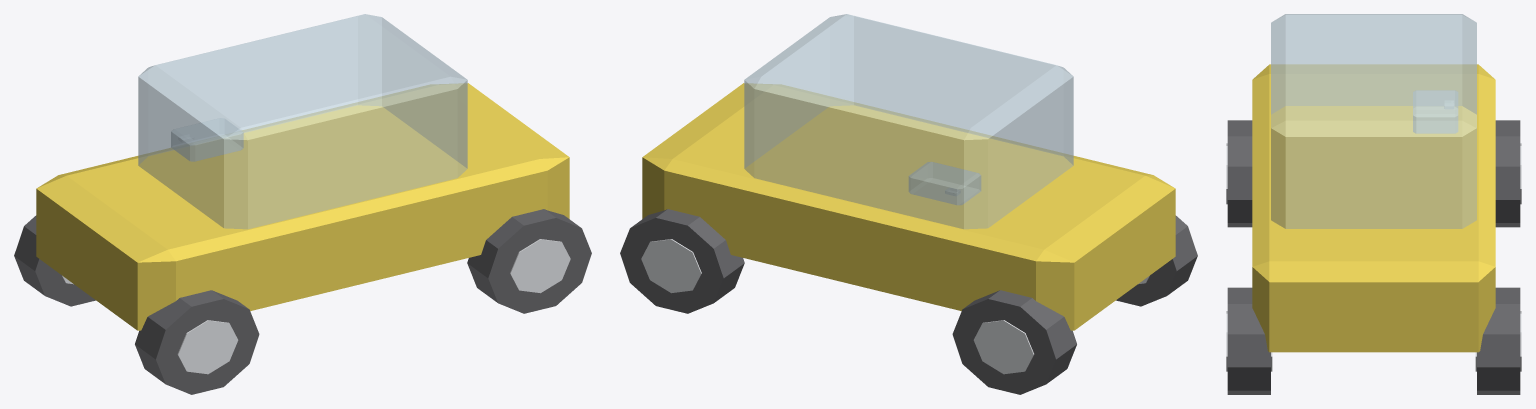
The model's file is b07_backhoe_loader.glb.
3 views of the same model, side by side, from view 1: azimuth 30°, elevation 25°; view 2: azimuth 150°, elevation 25°; view 3: azimuth 270°, elevation 25° (orthographic). The views are drawn at different scales.
Visible parts, largest first — view 1: b07_backhoe_loader; view 2: b07_backhoe_loader; view 3: b07_backhoe_loader.
Part boxes in pixels (bbox=[...]): b07_backhoe_loader: bbox=[14, 14, 591, 394]; b07_backhoe_loader: bbox=[620, 14, 1197, 394]; b07_backhoe_loader: bbox=[1226, 14, 1521, 394].
Bounding box in the file's own units: 5.88 × 2.93 × 3.34.
